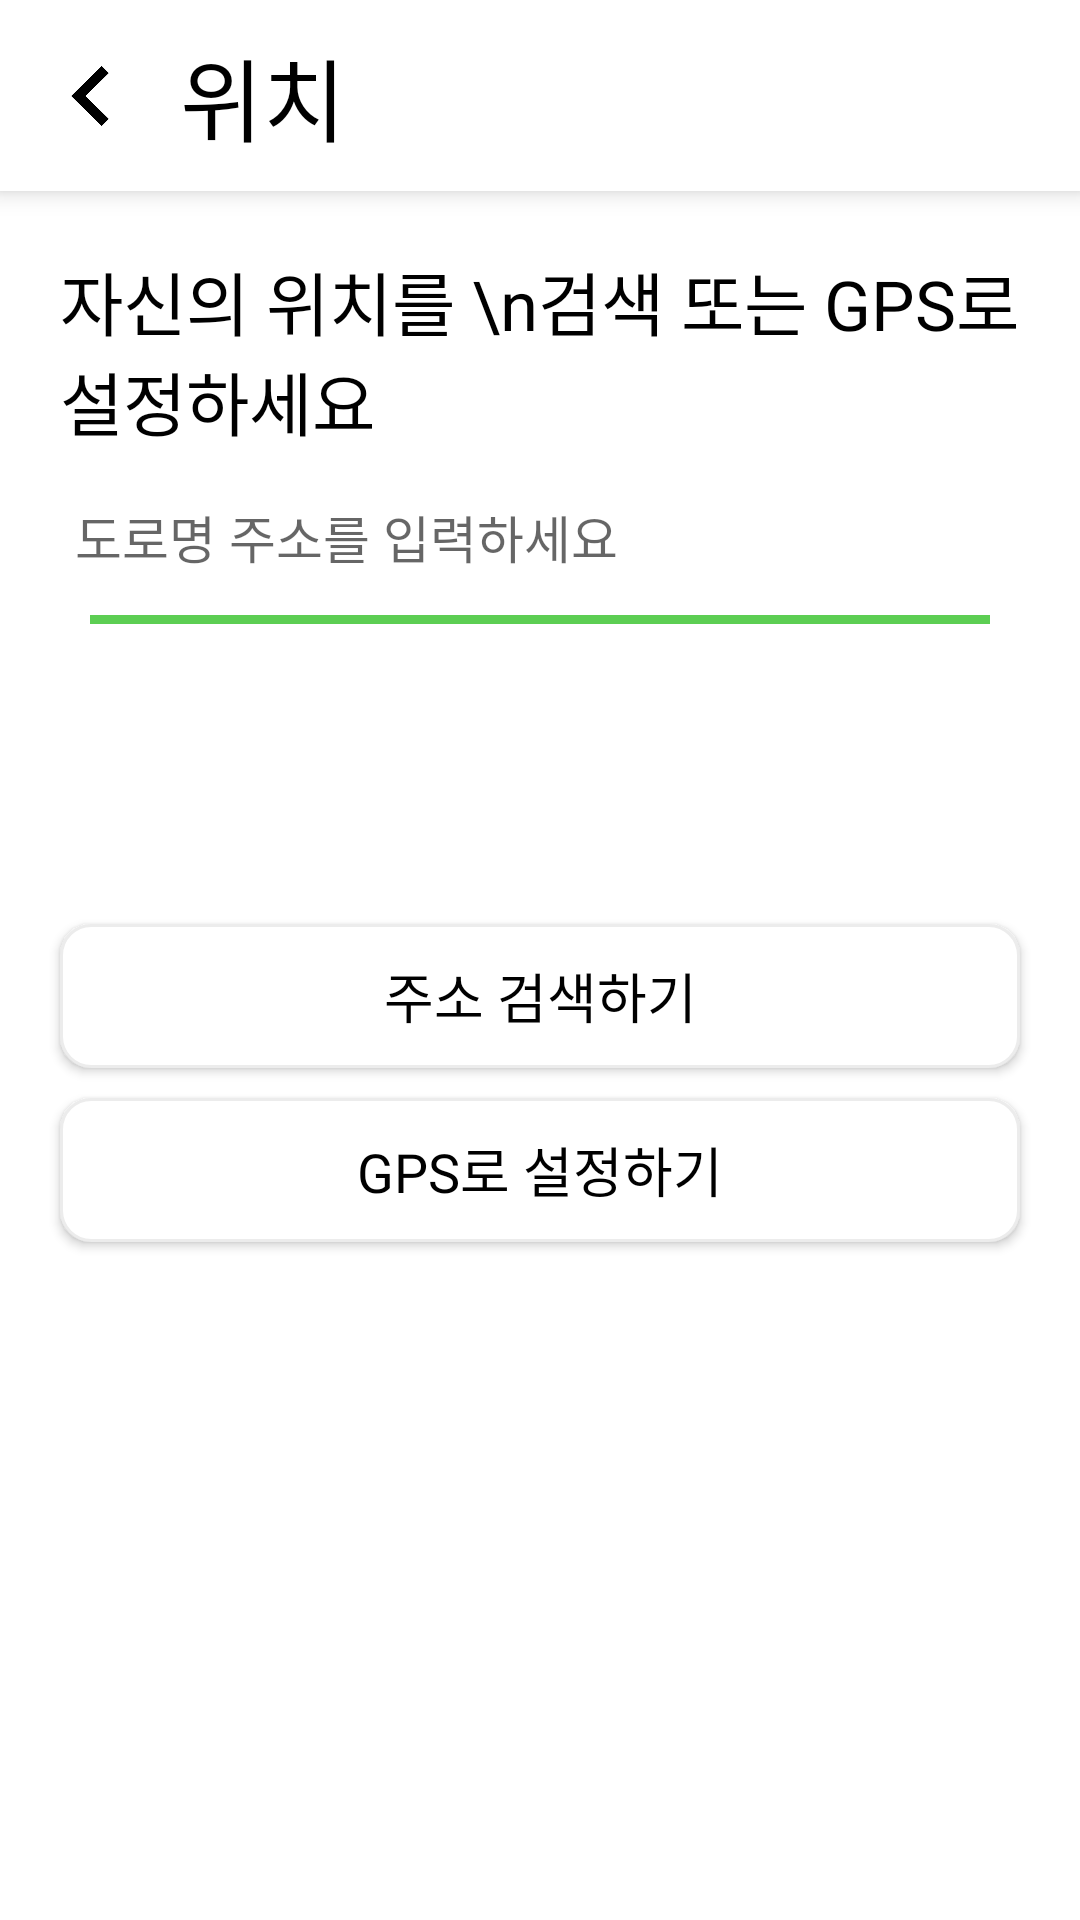

Where icons sit on this 1080px x 1920px app screen, as (x1, y1, x2, y2):
back: (71, 66, 109, 126)
